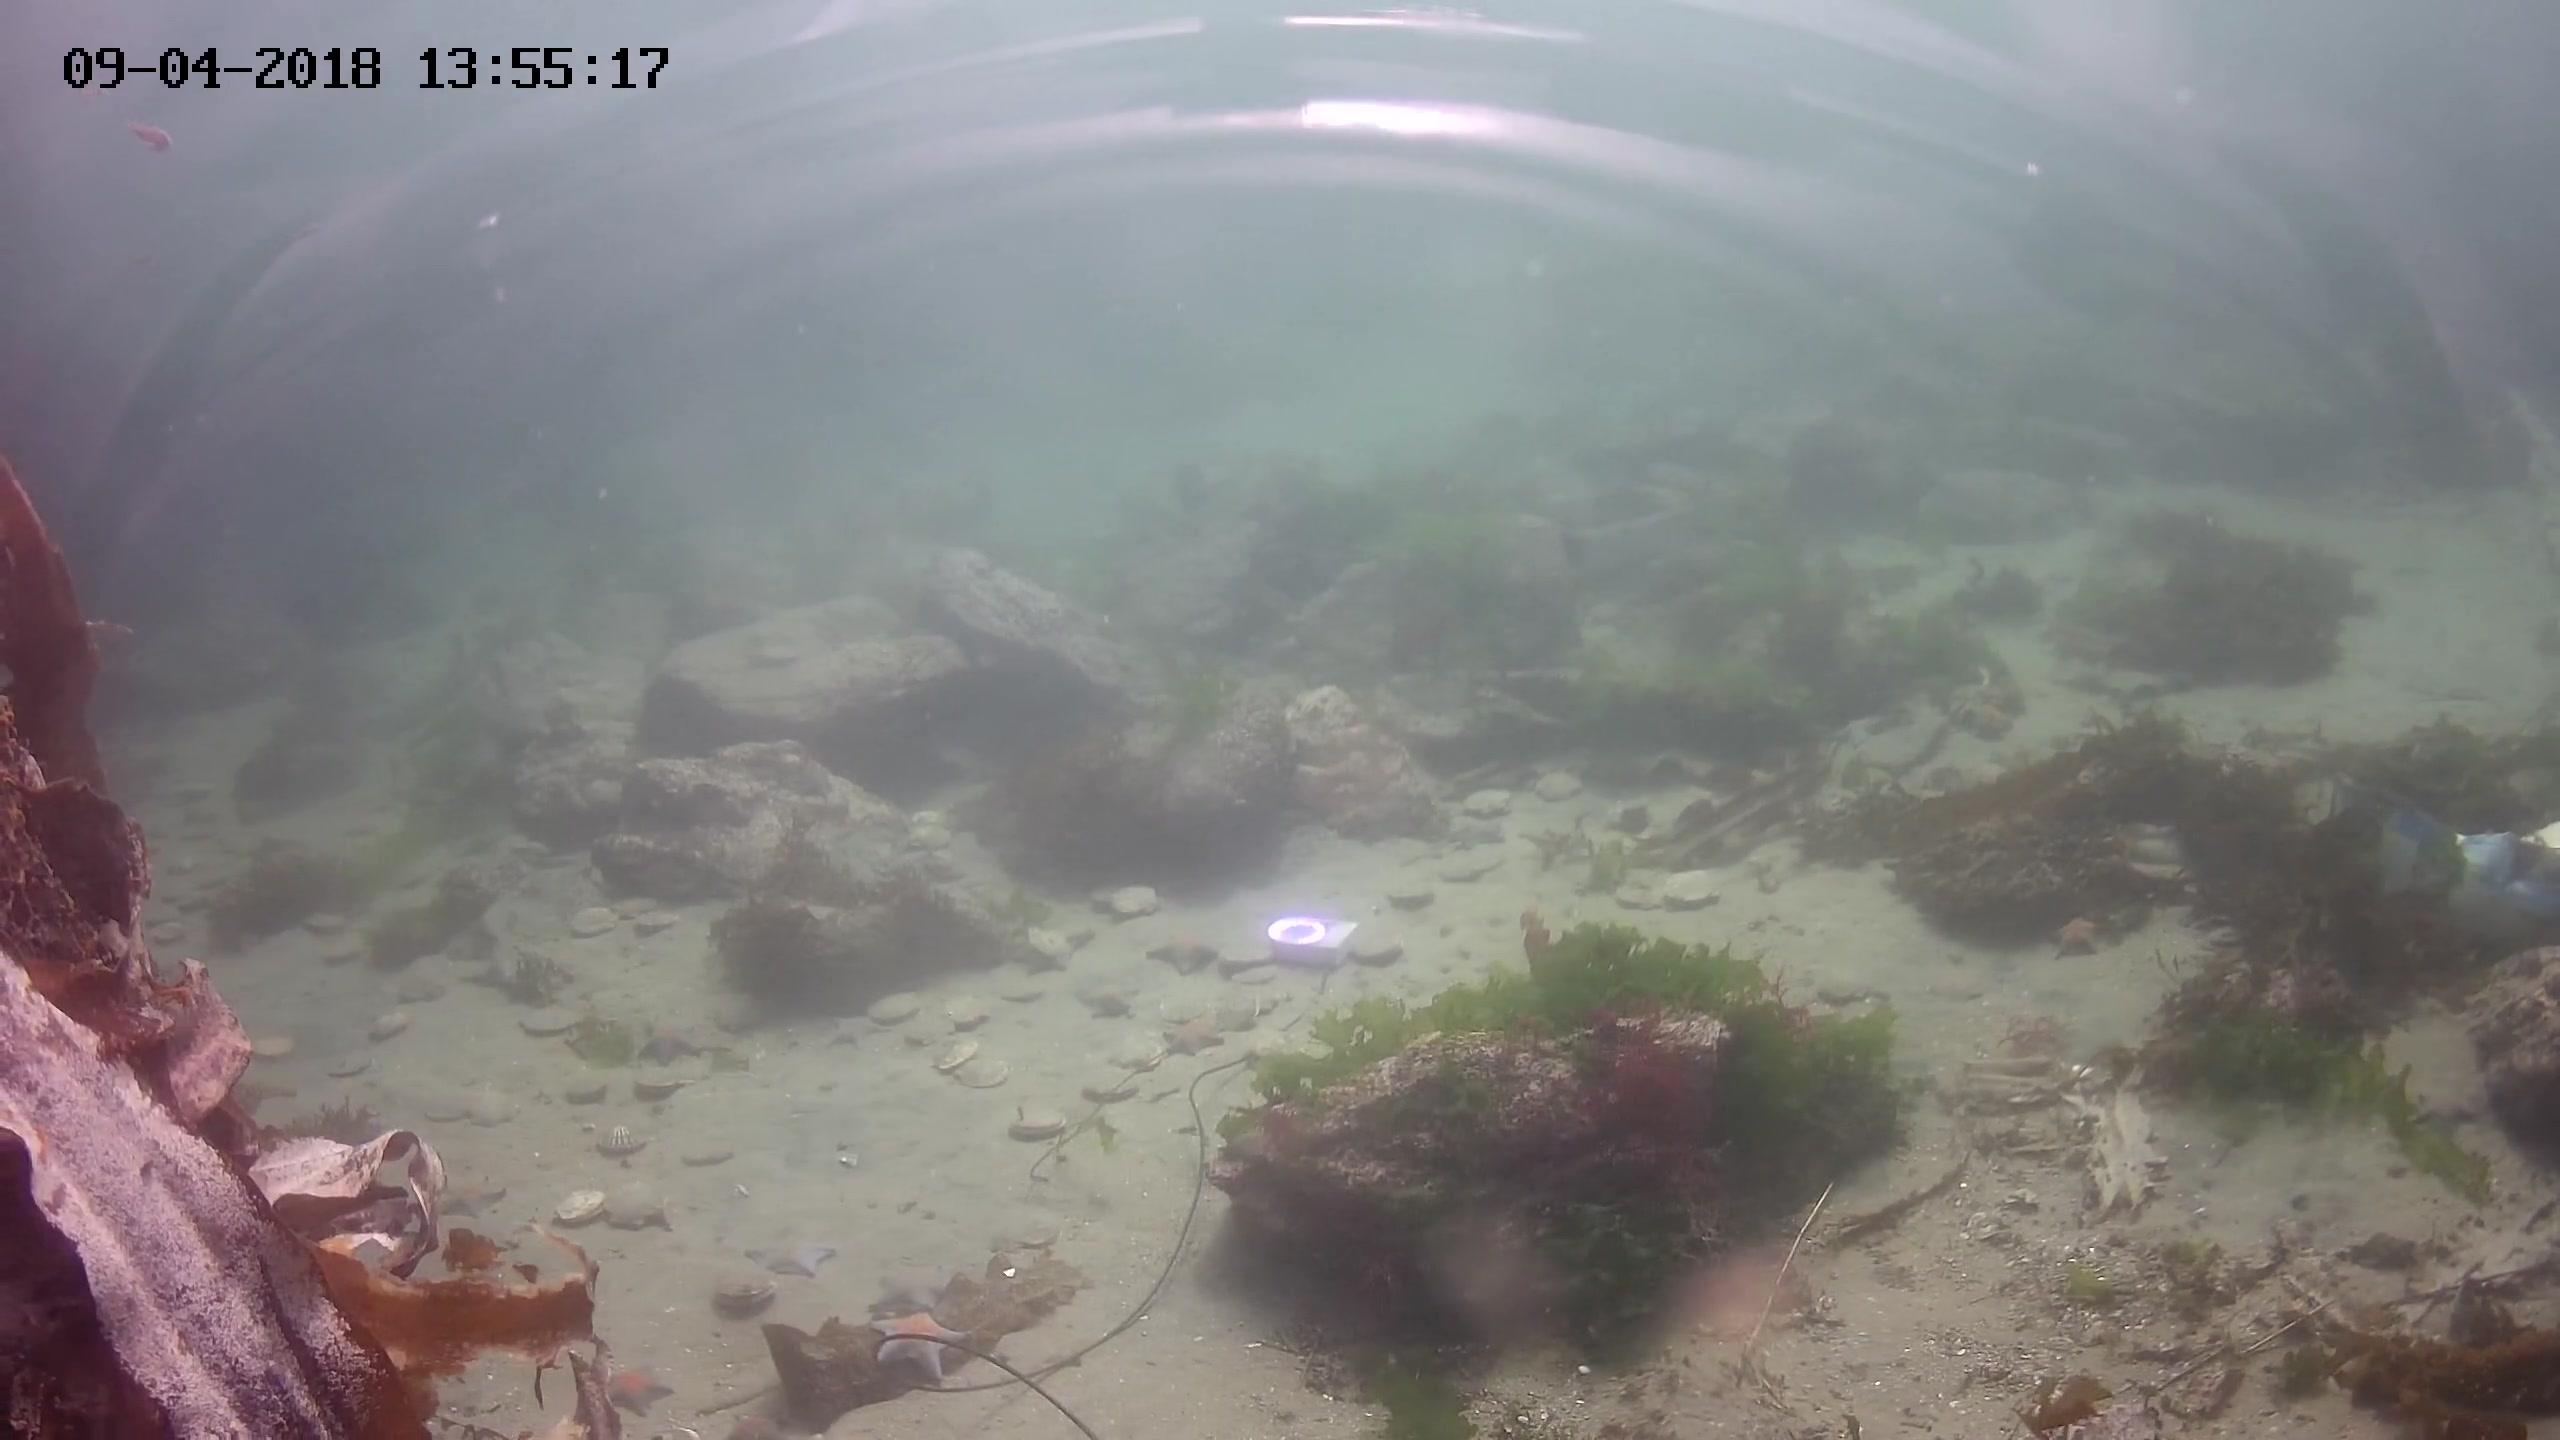scallop: (703, 1268, 779, 1313), (598, 1187, 665, 1234), (1002, 1102, 1073, 1146), (1663, 869, 1728, 914), (1378, 877, 1449, 916), (672, 1129, 733, 1173), (1109, 879, 1169, 923), (1085, 1071, 1146, 1109), (556, 1065, 612, 1108), (1519, 767, 1577, 805), (519, 1002, 585, 1036), (549, 1192, 610, 1227), (869, 988, 921, 1029), (629, 1073, 686, 1109), (1461, 789, 1519, 825), (932, 1039, 979, 1081), (468, 1094, 517, 1134), (955, 1060, 1013, 1094), (1023, 921, 1074, 958), (1350, 932, 1408, 964), (566, 905, 624, 935), (250, 1027, 294, 1065), (593, 1129, 649, 1159), (629, 911, 680, 941), (942, 995, 990, 1027), (1224, 939, 1271, 967), (1233, 962, 1284, 986), (907, 1020, 956, 1044), (325, 1057, 375, 1081), (373, 1013, 406, 1041), (1002, 979, 1037, 1000)
starfish: (869, 1306, 964, 1380), (594, 1350, 682, 1422), (633, 1013, 700, 1071), (1143, 927, 1220, 976), (1157, 1015, 1225, 1067), (754, 1241, 840, 1282), (1073, 978, 1138, 1025), (2050, 907, 2103, 964), (826, 1015, 884, 1044)
